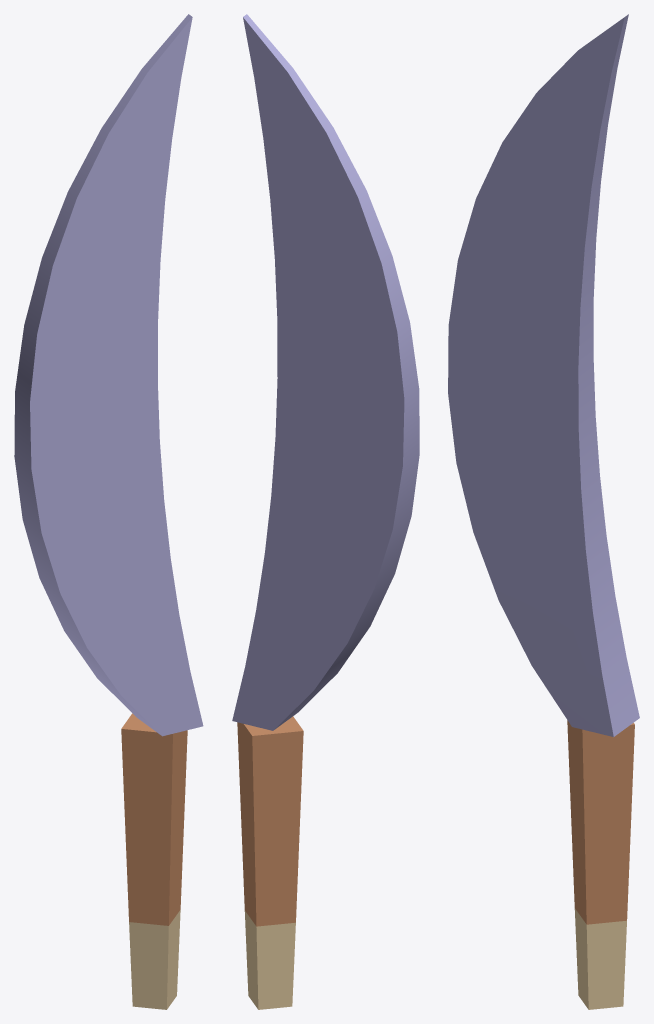
The model's file is knife.fbx.
The picture shows the model from 3 angles, left to right: view 1: azimuth 30°, elevation 25°; view 2: azimuth 150°, elevation 25°; view 3: azimuth 330°, elevation 25°; orthographic projection. The views are drawn at different scales.
Visible parts, largest first — view 1: mergedBlocks; view 2: mergedBlocks; view 3: mergedBlocks.
Part boxes in pixels (x1,y1,x2,y2): mergedBlocks: (14,14,203,1009); mergedBlocks: (232,14,419,1009); mergedBlocks: (448,14,639,1009).
Size of the model in its own units: 2.55 by 14 by 0.9413.
